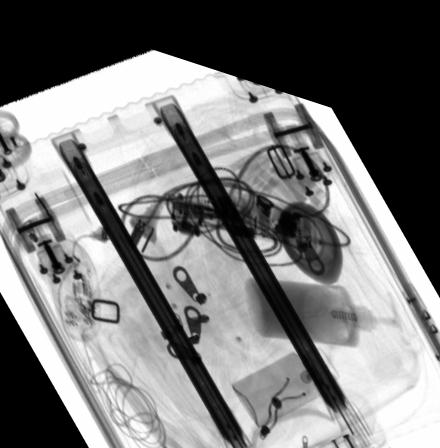Sprayer: (230, 325, 338, 410)
